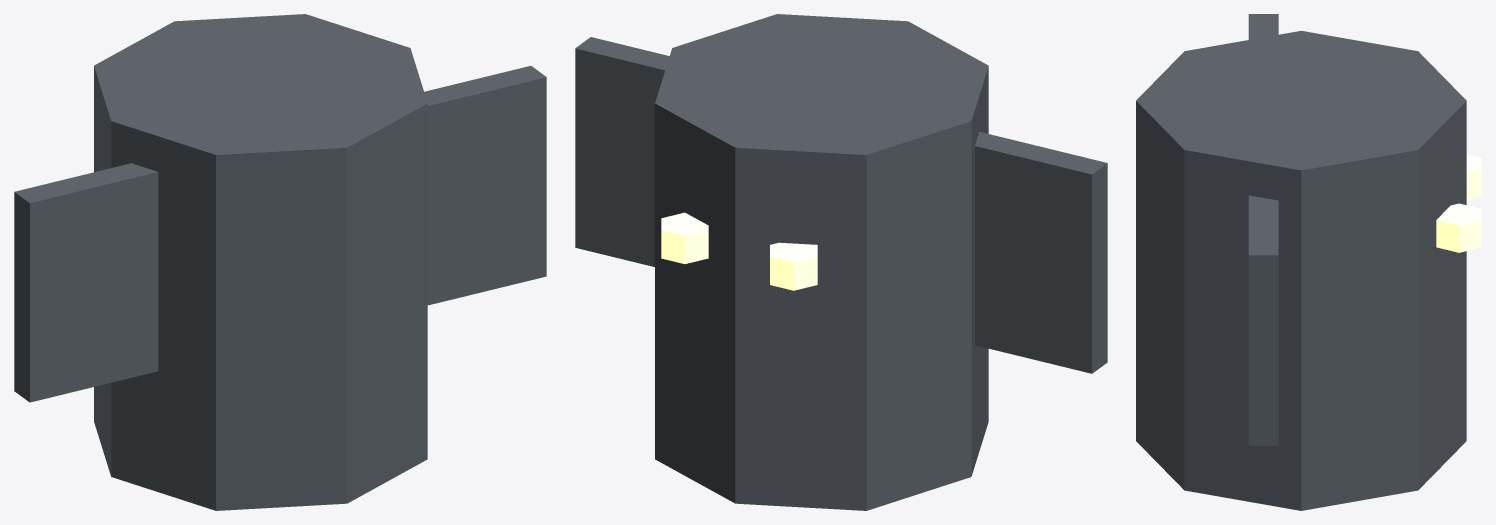
Rendered from haunted_swampcritter.glb.
3 views of the same model, side by side, from view 1: azimuth 30°, elevation 25°; view 2: azimuth 150°, elevation 25°; view 3: azimuth 270°, elevation 25° (orthographic). The views are drawn at different scales.
Visible parts, largest first — view 1: Haunted_SwampCritter; view 2: Haunted_SwampCritter; view 3: Haunted_SwampCritter.
Boxes of the visible parts, bbox=[...] form: Haunted_SwampCritter: bbox=[14, 14, 546, 510]; Haunted_SwampCritter: bbox=[575, 14, 1107, 510]; Haunted_SwampCritter: bbox=[1136, 14, 1481, 510].
Size of the model in its own units: 0.76 by 0.5 by 0.4603.
